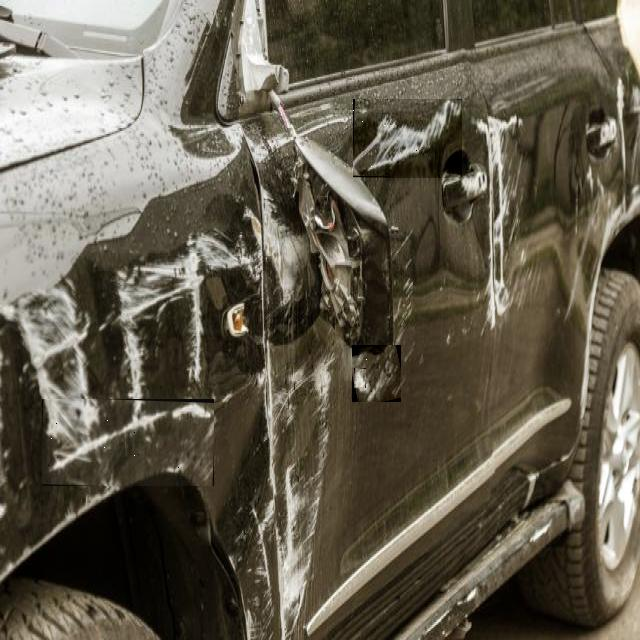Dent: (42, 399, 214, 486), (353, 100, 462, 180), (352, 345, 401, 402), (354, 368, 366, 388)
